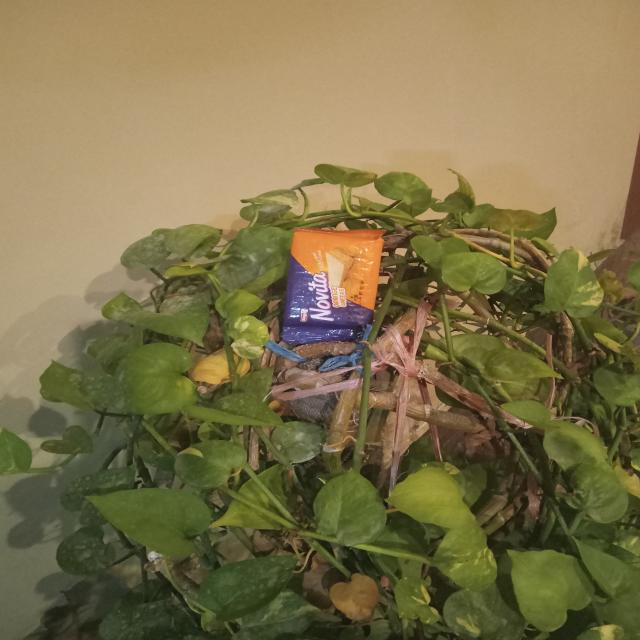Plastic: (290, 231, 380, 337)
